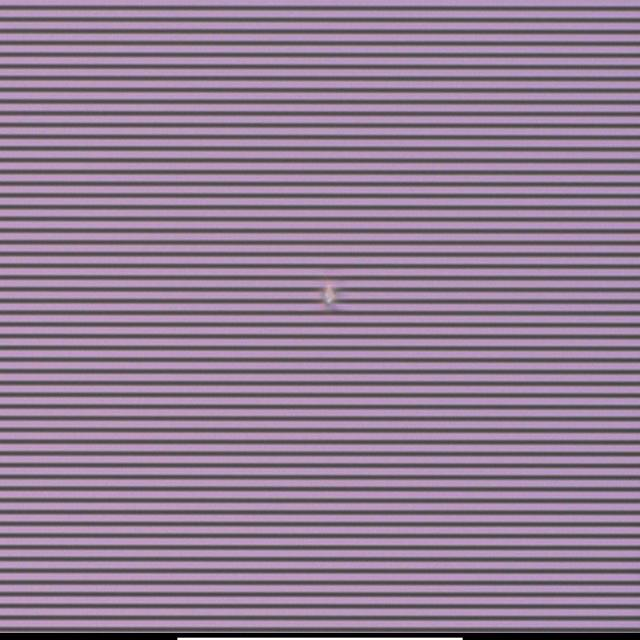nonvisual: (321, 282, 338, 307)
